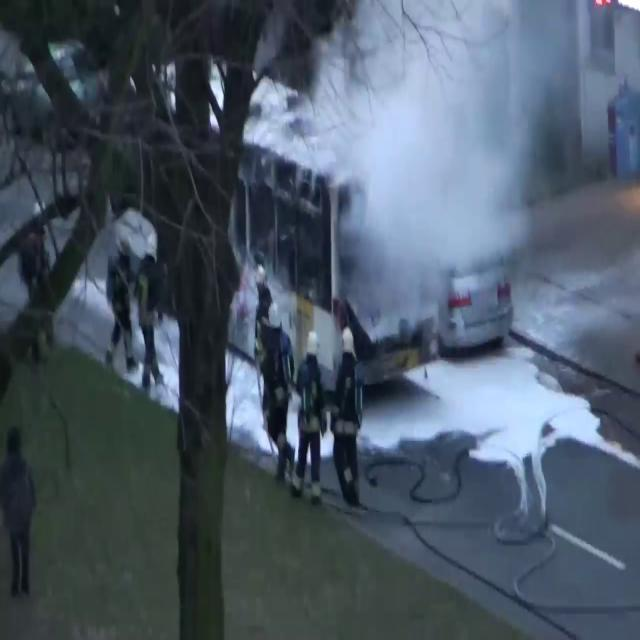Smoke: (296, 1, 604, 306)
